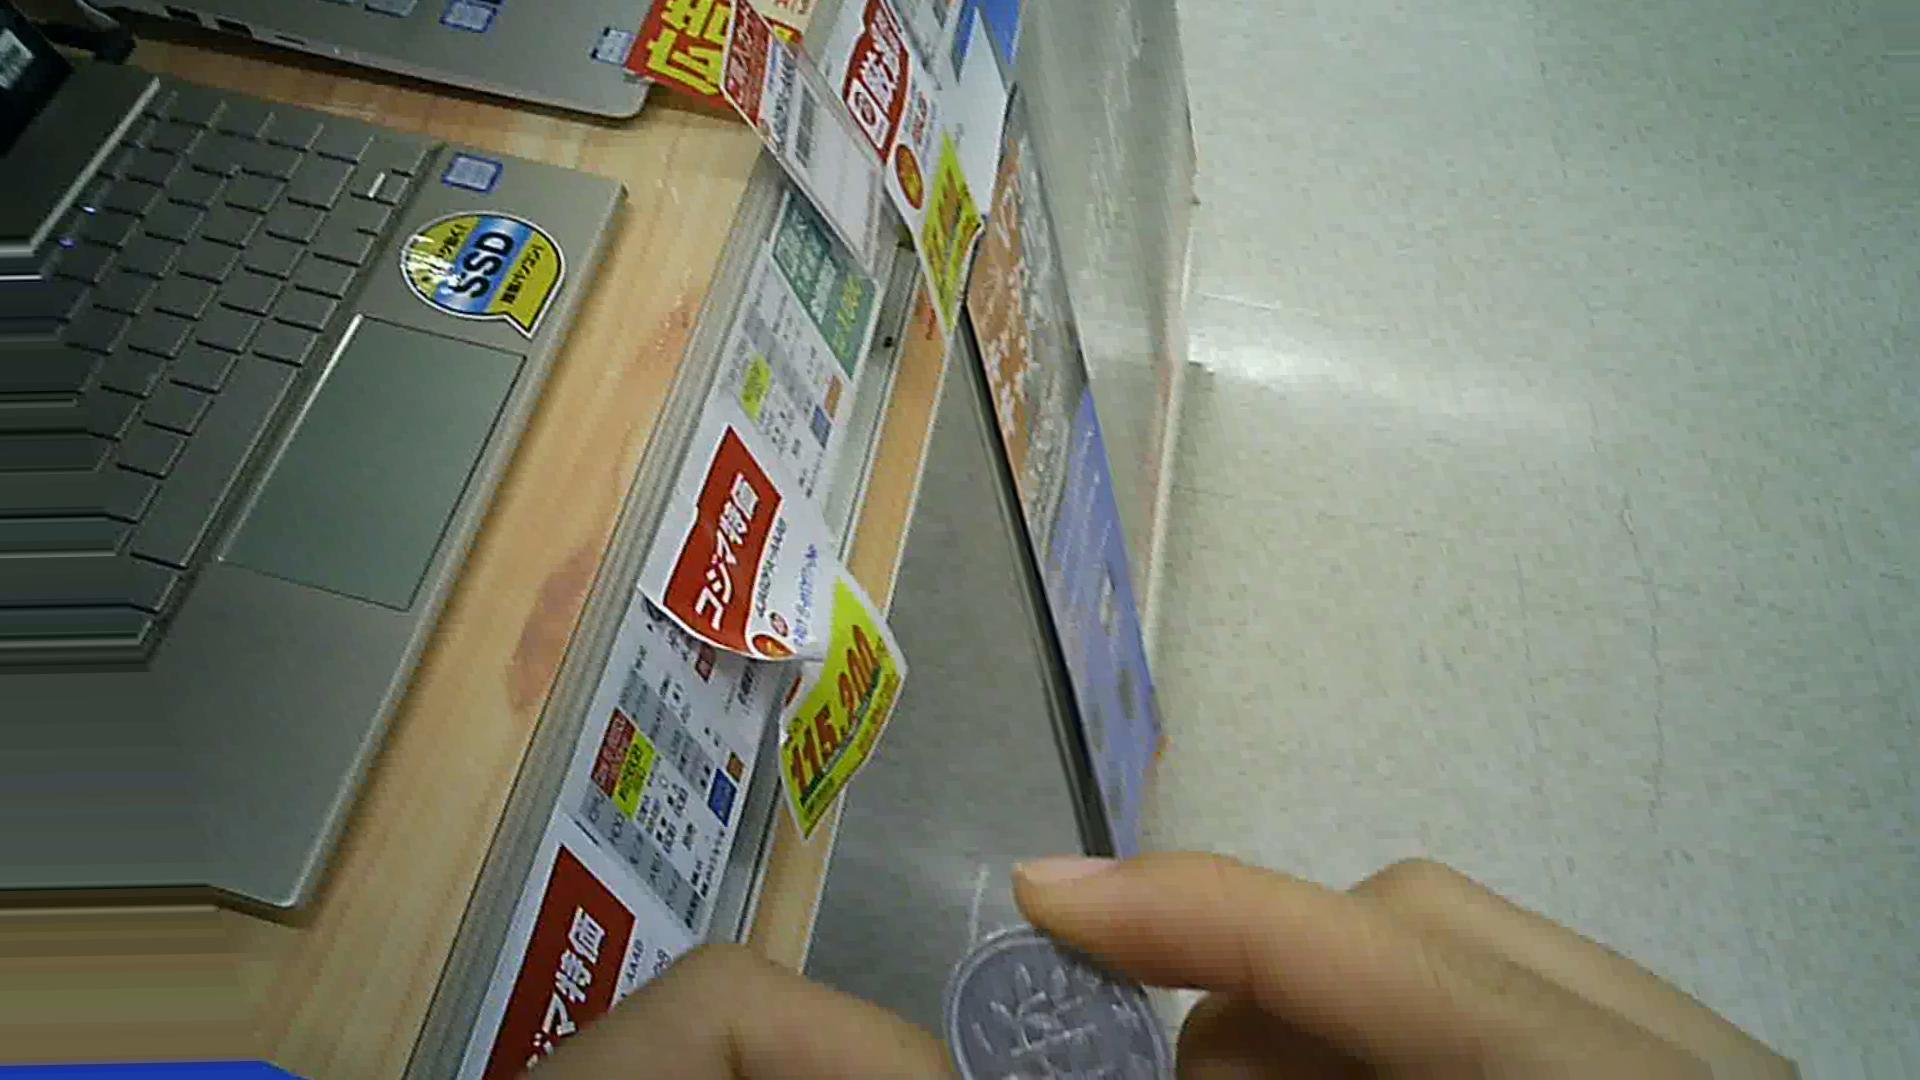1 Yen: (909, 906, 1176, 1079)
